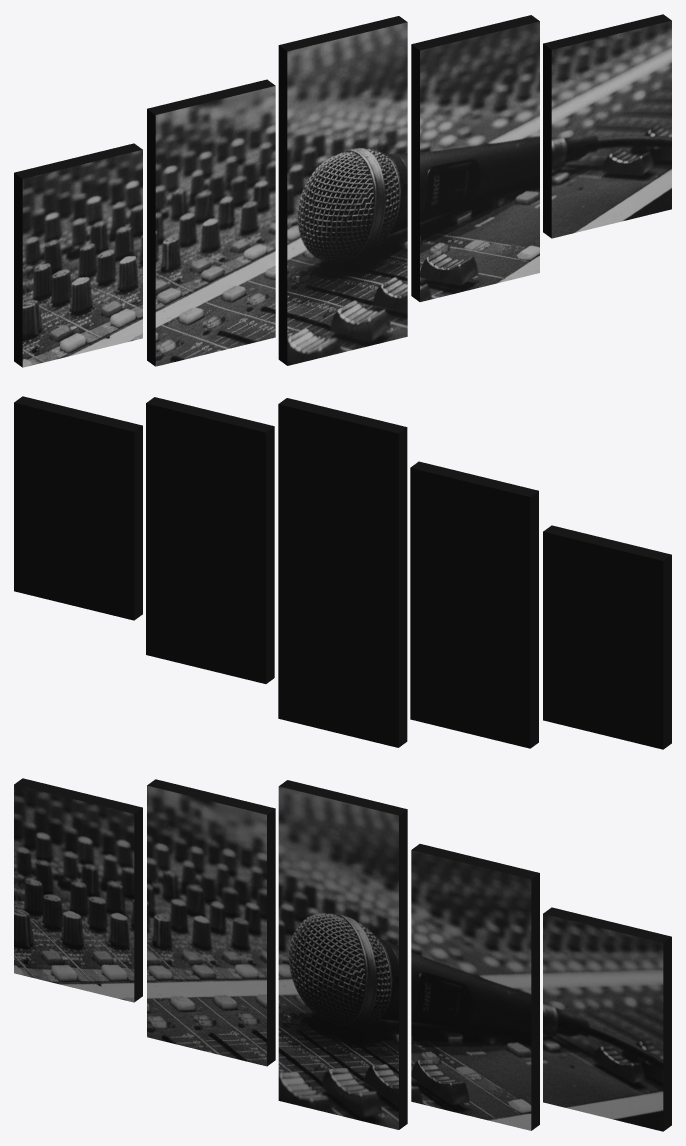
Rendered from wallart.glb.
The picture shows the model from 3 angles, top to bottom: view 1: azimuth 30°, elevation 25°; view 2: azimuth 150°, elevation 25°; view 3: azimuth 330°, elevation 25°; orthographic projection.
Parts seen in each view (by area): view 1: Panel_3, Panel_2, Panel_4, Panel_1, Panel_5; view 2: Panel_3, Panel_2, Panel_4, Panel_1, Panel_5; view 3: Panel_3, Panel_2, Panel_4, Panel_1, Panel_5.
Part boxes in pixels (left/top/right/bottom): Panel_3: left=278, top=16, right=407, bottom=365; Panel_2: left=147, top=79, right=275, bottom=366; Panel_4: left=411, top=15, right=539, bottom=301; Panel_1: left=14, top=143, right=142, bottom=367; Panel_5: left=543, top=14, right=671, bottom=238; Panel_3: left=278, top=398, right=407, bottom=747; Panel_2: left=410, top=461, right=538, bottom=748; Panel_4: left=146, top=397, right=274, bottom=683; Panel_1: left=543, top=525, right=671, bottom=749; Panel_5: left=14, top=396, right=142, bottom=620; Panel_3: left=278, top=780, right=407, bottom=1129; Panel_2: left=147, top=779, right=275, bottom=1066; Panel_4: left=411, top=844, right=539, bottom=1130; Panel_1: left=14, top=778, right=142, bottom=1002; Panel_5: left=543, top=907, right=671, bottom=1131.
Size of the model in its own units: 1.1 by 0.508 by 0.0254.
Materials: 1 (1 with a texture image).
